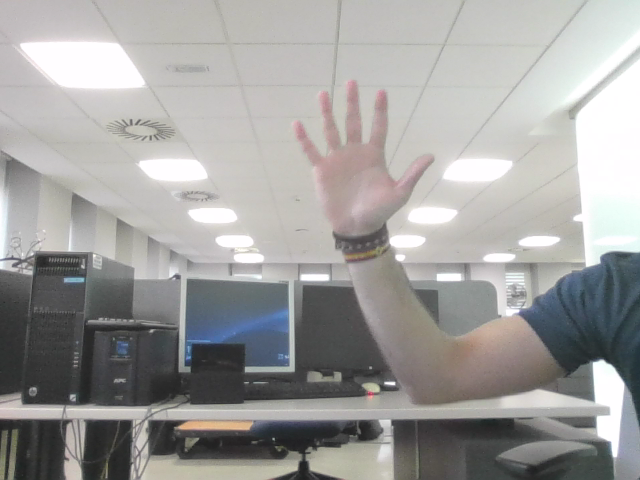Mano Abierta: (302, 92, 419, 207)
